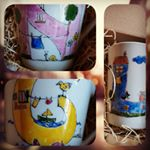cups: (1, 77, 98, 150), (12, 4, 88, 70), (104, 40, 149, 135)
